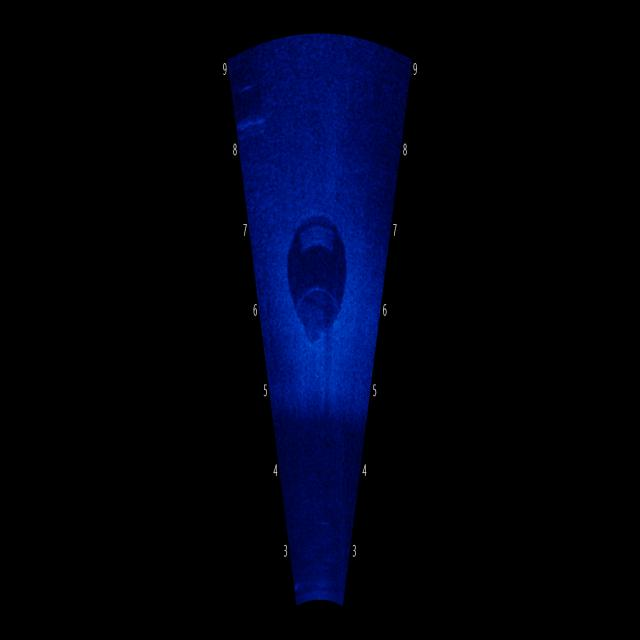circle: (282, 206, 354, 354)
